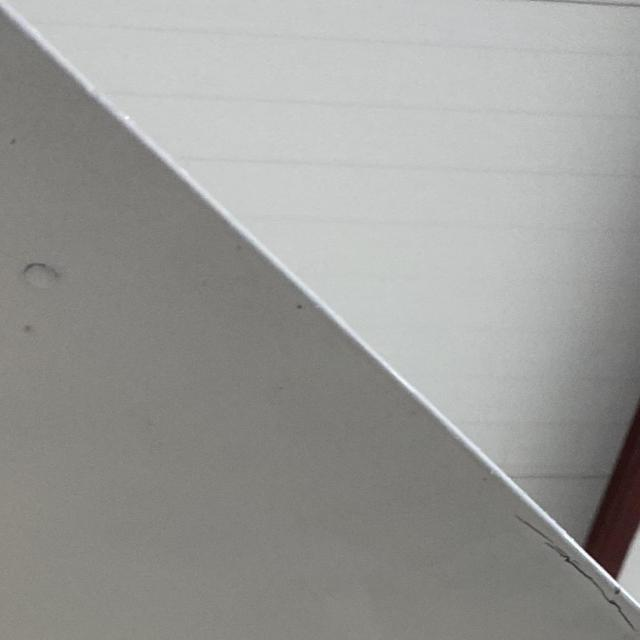Scratch: (515, 509, 640, 635)
